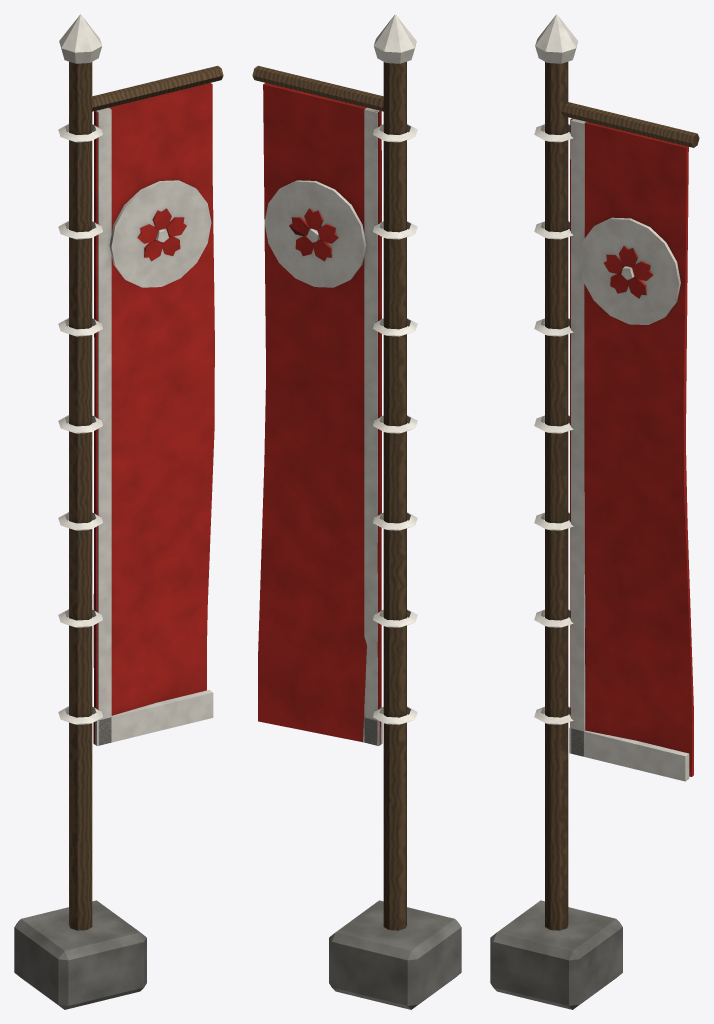
File: nobori_red.fbx
The picture shows the model from 3 angles, left to right: view 1: azimuth 30°, elevation 25°; view 2: azimuth 150°, elevation 25°; view 3: azimuth 330°, elevation 25°; orthographic projection.
Visible parts, largest first — view 1: nobori_red; view 2: nobori_red; view 3: nobori_red.
Boxes of the visible parts, x1=… form: nobori_red: x1=14, y1=14, x2=223, y2=1009; nobori_red: x1=252, y1=14, x2=461, y2=1009; nobori_red: x1=490, y1=14, x2=699, y2=1009.
Size of the model in its own units: 228 by 1150 by 110.
1 material, 1 textured.
